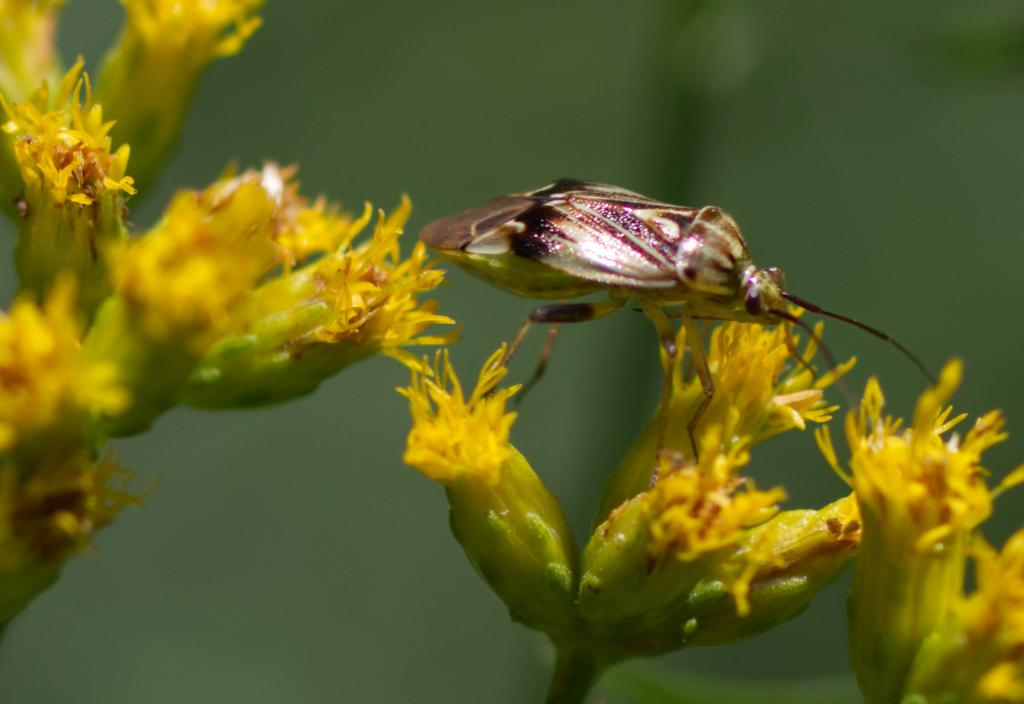plant_bugs: (394, 123, 956, 515)
